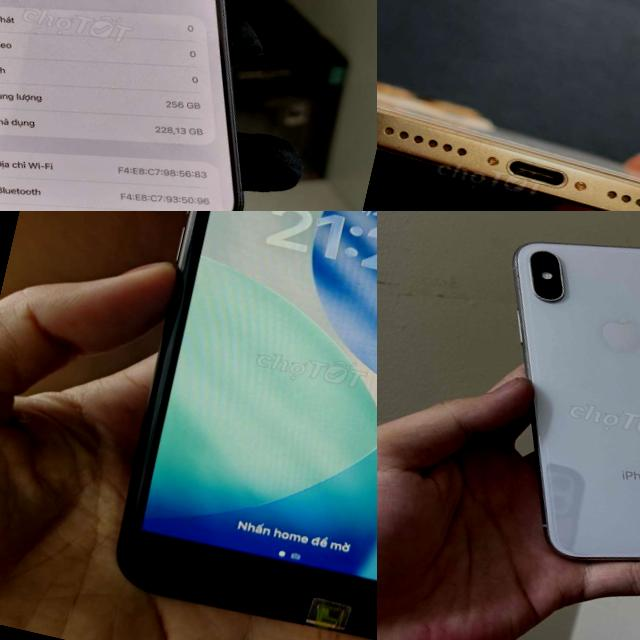gen_15: (0, 0, 334, 211)
gen_16: (377, 81, 640, 211)
gen_x_xs: (513, 242, 640, 560)
